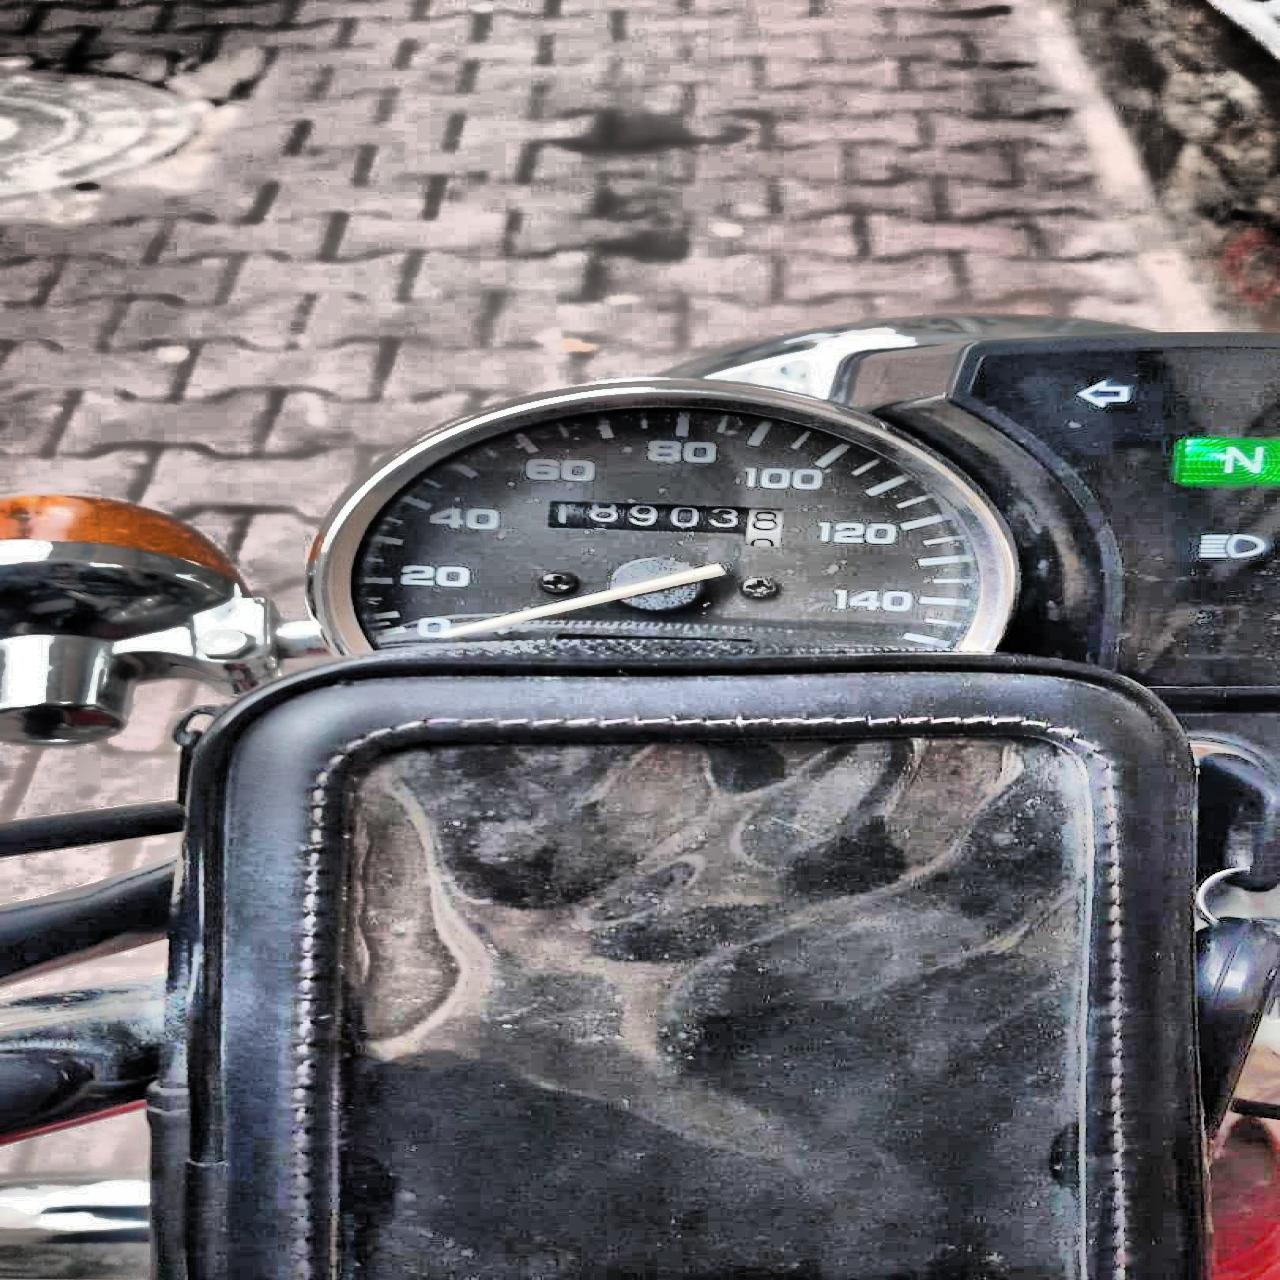0: (670, 503, 700, 529)
1: (550, 503, 572, 525)
3: (708, 505, 741, 529)
8: (586, 499, 621, 527), (749, 506, 779, 535)
9: (628, 502, 660, 526)
odometer: (544, 498, 783, 550)
